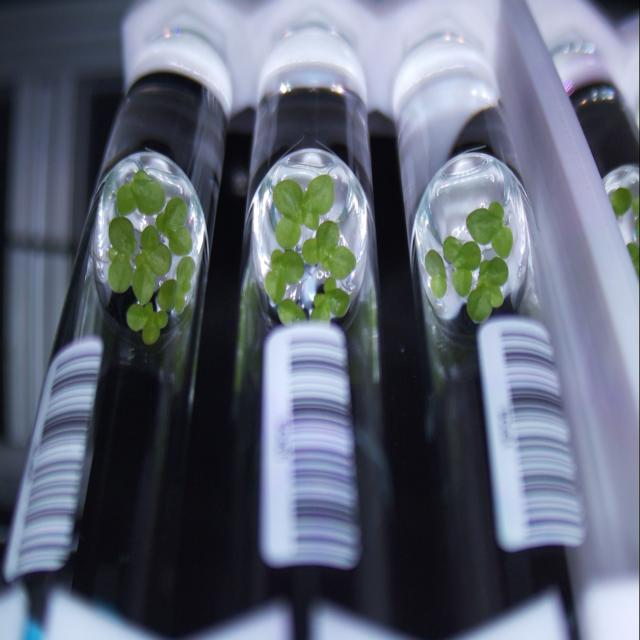Lemna-Gibba: (126, 304, 169, 345), (130, 170, 165, 215), (272, 178, 302, 223), (466, 208, 502, 245), (304, 175, 335, 215), (271, 250, 305, 284), (322, 245, 356, 279), (324, 277, 350, 317), (109, 217, 136, 255), (316, 220, 339, 262), (466, 285, 492, 322), (108, 254, 132, 294), (132, 264, 155, 305), (146, 243, 171, 277), (164, 197, 188, 232), (481, 257, 509, 287), (454, 240, 481, 270), (275, 217, 301, 248), (311, 294, 341, 320), (176, 255, 195, 294), (168, 225, 192, 255), (265, 270, 286, 304), (491, 225, 512, 259), (279, 299, 306, 325), (479, 279, 504, 307), (158, 279, 178, 312), (116, 183, 136, 215), (425, 250, 446, 277), (452, 269, 472, 297), (442, 235, 462, 262), (301, 238, 319, 265), (140, 225, 159, 250), (430, 275, 448, 299), (302, 208, 319, 230), (489, 200, 504, 220), (175, 289, 185, 314), (155, 212, 165, 233), (109, 247, 119, 262), (134, 254, 145, 267)
